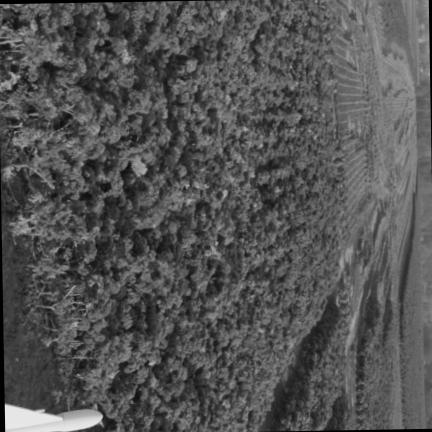Shahed: (4, 403, 103, 432)
